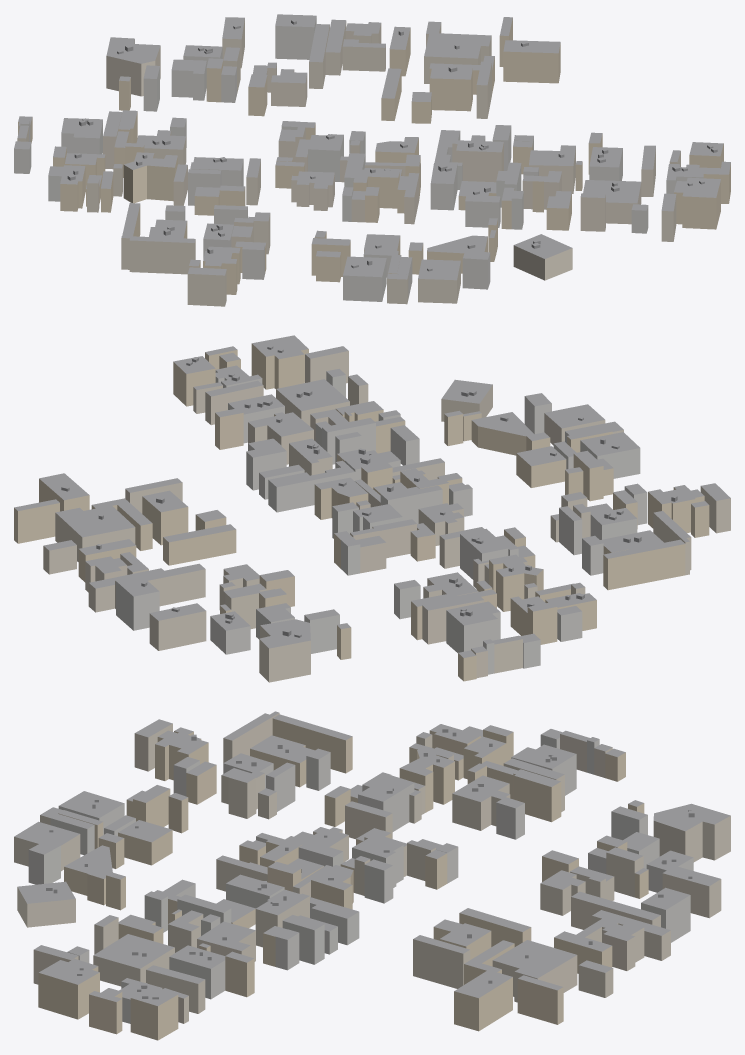
The model's file is building_-5_-6.glb.
The picture shows the model from 3 angles, top to bottom: view 1: azimuth 30°, elevation 25°; view 2: azimuth 150°, elevation 25°; view 3: azimuth 270°, elevation 25°; orthographic projection. The views are drawn at different scales.
Visible parts, largest first — view 1: roof, concrete_warm, sandstone, concrete_light; view 2: roof, sandstone, concrete_warm, concrete_light; view 3: roof, sandstone, concrete_warm, concrete_light.
Part boxes in pixels (<box>): roof: <box>14,14,730,280</box>; concrete_warm: <box>17,19,680,306</box>; sandstone: <box>18,18,730,294</box>; concrete_light: <box>14,16,703,301</box>; roof: <box>14,335,730,657</box>; sandstone: <box>14,343,709,681</box>; concrete_warm: <box>43,351,730,682</box>; concrete_light: <box>116,370,647,674</box>; roof: <box>14,711,730,1005</box>; sandstone: <box>38,718,648,1040</box>; concrete_warm: <box>14,713,730,1023</box>; concrete_light: <box>28,734,693,1023</box>.
Bounding box in the file's own units: 265 × 17.08 × 273.
